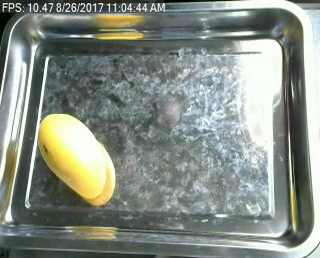Mango: (36, 111, 111, 200)
